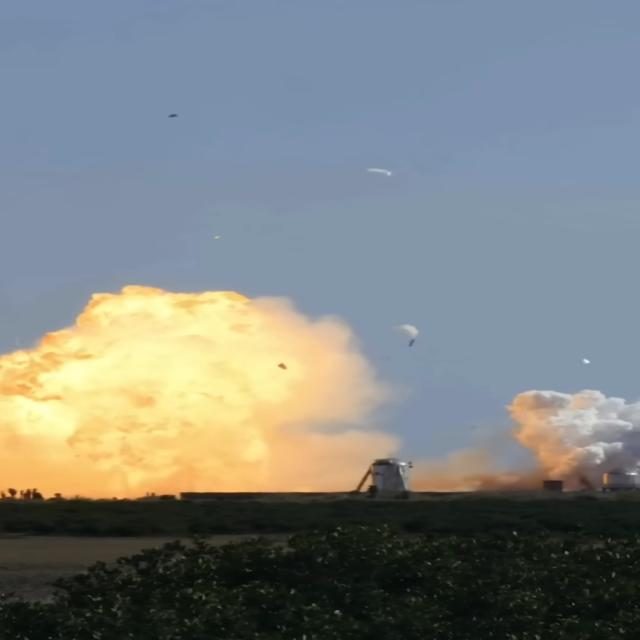missile: (406, 338, 418, 348)
